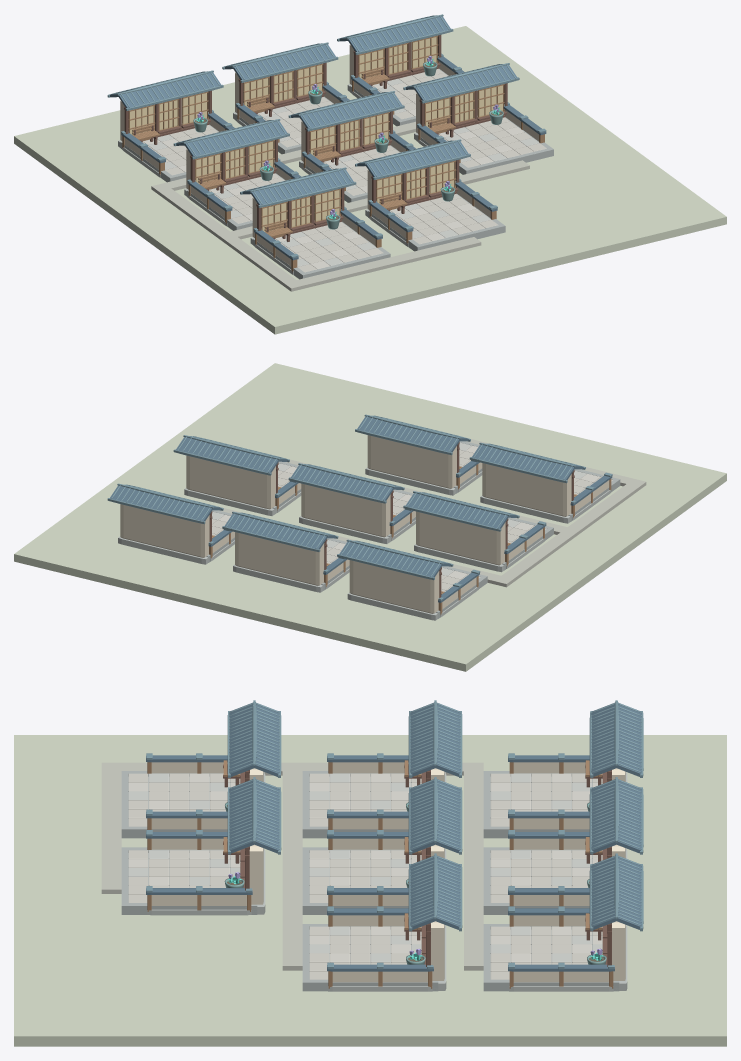
File: gggame_courtyard_paving_soft_v3_08.glb
3 renders of one model, top to bottom at view 1: azimuth 30°, elevation 25°; view 2: azimuth 150°, elevation 25°; view 3: azimuth 270°, elevation 25°, orthographic. The views are drawn at different scales.
Parts seen in each view (by area): view 1: ground, home-6-decor, home-7-decor, home-3-decor, home-0-decor, home-5-decor, home-2-decor, home-4-decor, home-1-decor, home-7-floor, home-6-floor, home-5-floor (+7 smaller); view 2: ground, home-0-decor, home-6-decor, home-3-decor, home-7-decor, home-5-decor, home-2-decor, home-1-decor, home-4-decor, walkway-spine, home-0-floor, home-3-floor (+1 smaller); view 3: ground, home-5-decor, home-2-decor, home-7-decor, home-6-decor, home-0-decor, home-3-decor, home-1-decor, home-4-decor, home-2-floor, home-5-floor, home-7-floor (+11 smaller).
Boxes of the visible parts, x1,y1,x2,y2 form: ground: [14, 26, 726, 334]; home-6-decor: [240, 167, 382, 274]; home-7-decor: [355, 139, 497, 246]; home-3-decor: [173, 119, 300, 226]; home-0-decor: [107, 70, 234, 177]; home-5-decor: [403, 63, 546, 162]; home-2-decor: [337, 14, 464, 114]; home-4-decor: [288, 91, 415, 191]; home-1-decor: [222, 42, 349, 142]; home-7-floor: [368, 193, 505, 251]; home-6-floor: [253, 222, 390, 279]; home-5-floor: [416, 117, 553, 174]; ground: [14, 363, 726, 671]; home-0-decor: [337, 539, 480, 620]; home-6-decor: [469, 442, 612, 523]; home-3-decor: [403, 491, 546, 572]; home-7-decor: [355, 414, 482, 495]; home-5-decor: [173, 435, 301, 515]; home-2-decor: [107, 483, 234, 564]; home-1-decor: [222, 511, 349, 592]; home-4-decor: [288, 463, 415, 543]; walkway-spine: [494, 479, 646, 587]; home-0-floor: [436, 566, 487, 618]; home-3-floor: [502, 517, 553, 570]; ground: [14, 735, 726, 1046]; home-5-decor: [327, 853, 462, 991]; home-2-decor: [508, 853, 643, 991]; home-7-decor: [146, 777, 281, 915]; home-6-decor: [146, 700, 281, 829]; home-0-decor: [508, 700, 643, 829]; home-3-decor: [327, 700, 462, 829]; home-1-decor: [508, 777, 643, 906]; home-4-decor: [327, 777, 462, 906]; home-2-floor: [483, 924, 619, 991]; home-5-floor: [302, 924, 438, 991]; home-7-floor: [121, 847, 257, 914].
Size of the model in its own units: 25.2 by 3.43 by 25.2.
